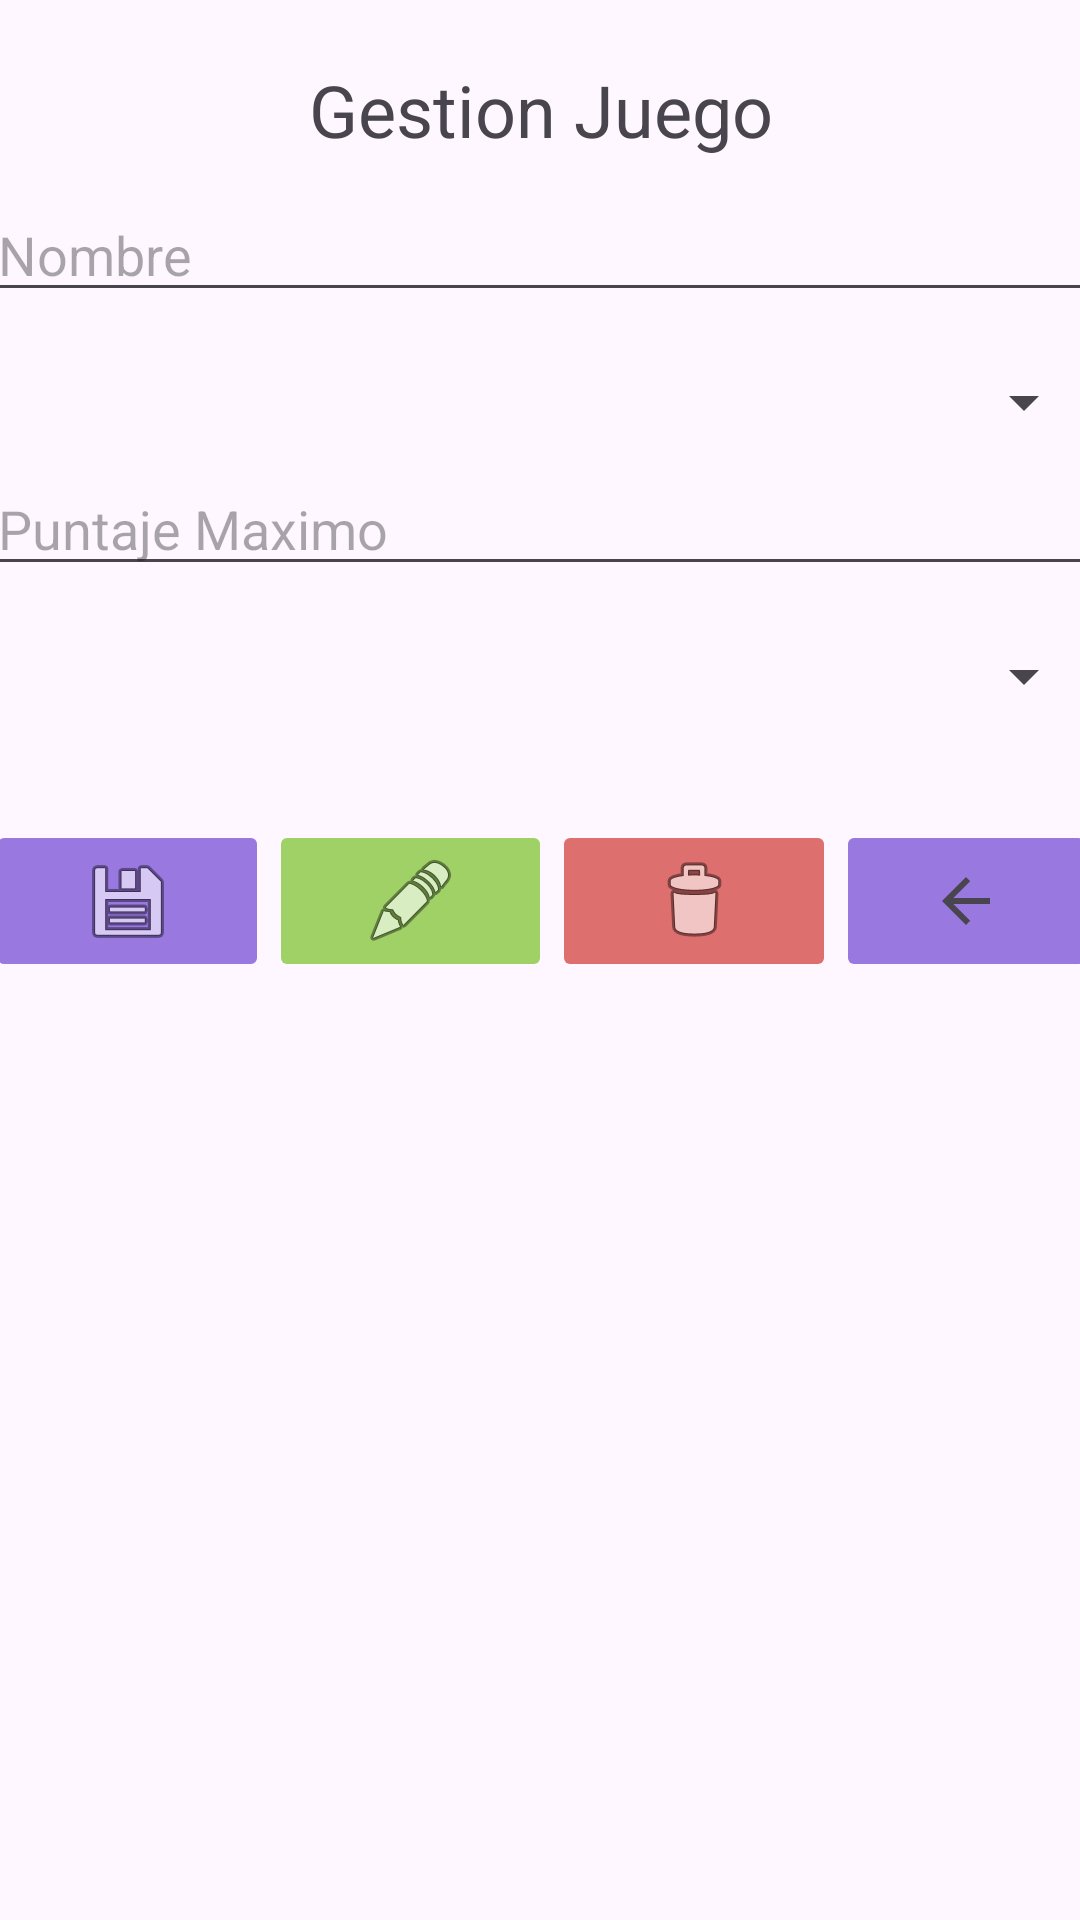

Icons on this 1080x1920 Android screen, each with its box as (x1, y1, x2, y2):
delete: (564, 838, 824, 964)
edit: (281, 838, 540, 964)
save: (0, 838, 257, 964)
